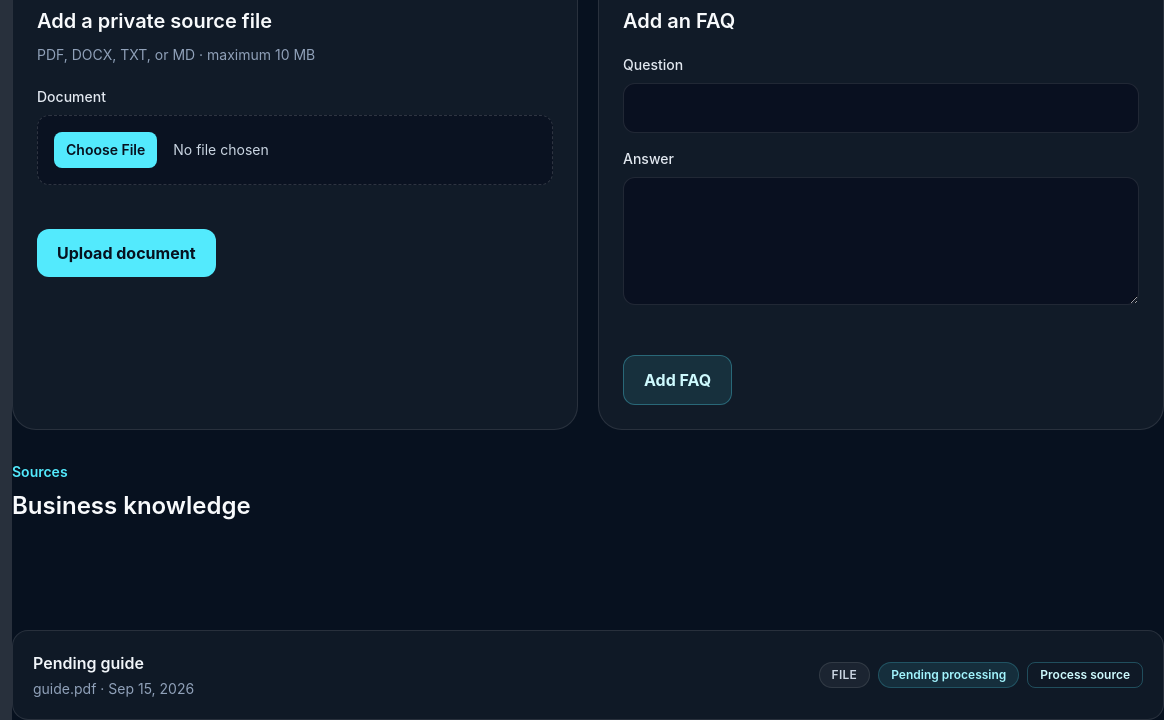
Test: KnowledgePage › processes a pending source once and reports the safe result
(page scrolled)
Step 1. Click the button "Process source" → point(1085, 675), box [1027,662,1143,688]
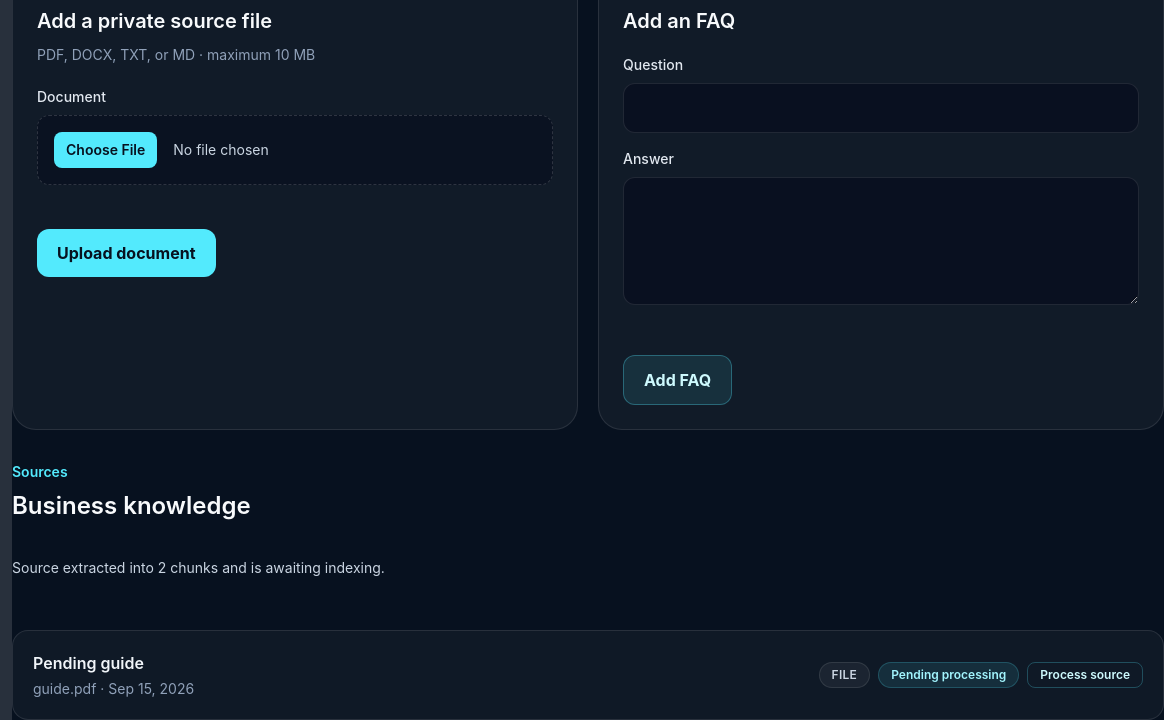
Check: the text "Source extracted into 2 chunks and is awaiting indexing." is shown, box [12,559,385,576]
